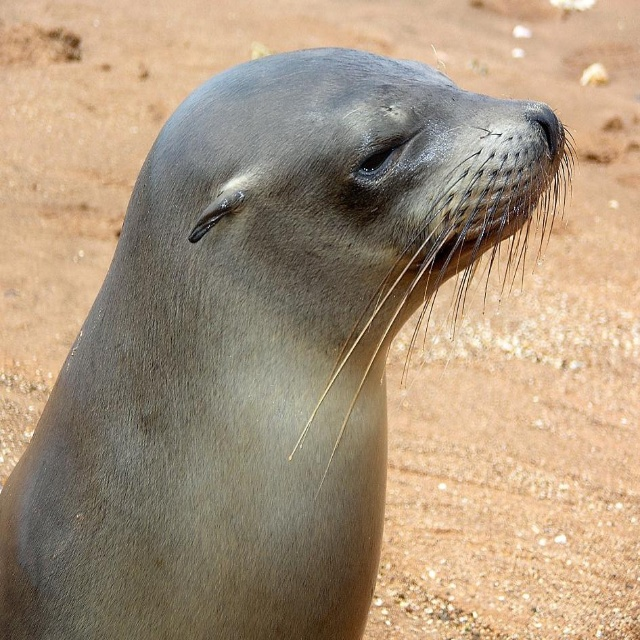Sea lion: (0, 47, 580, 640)
